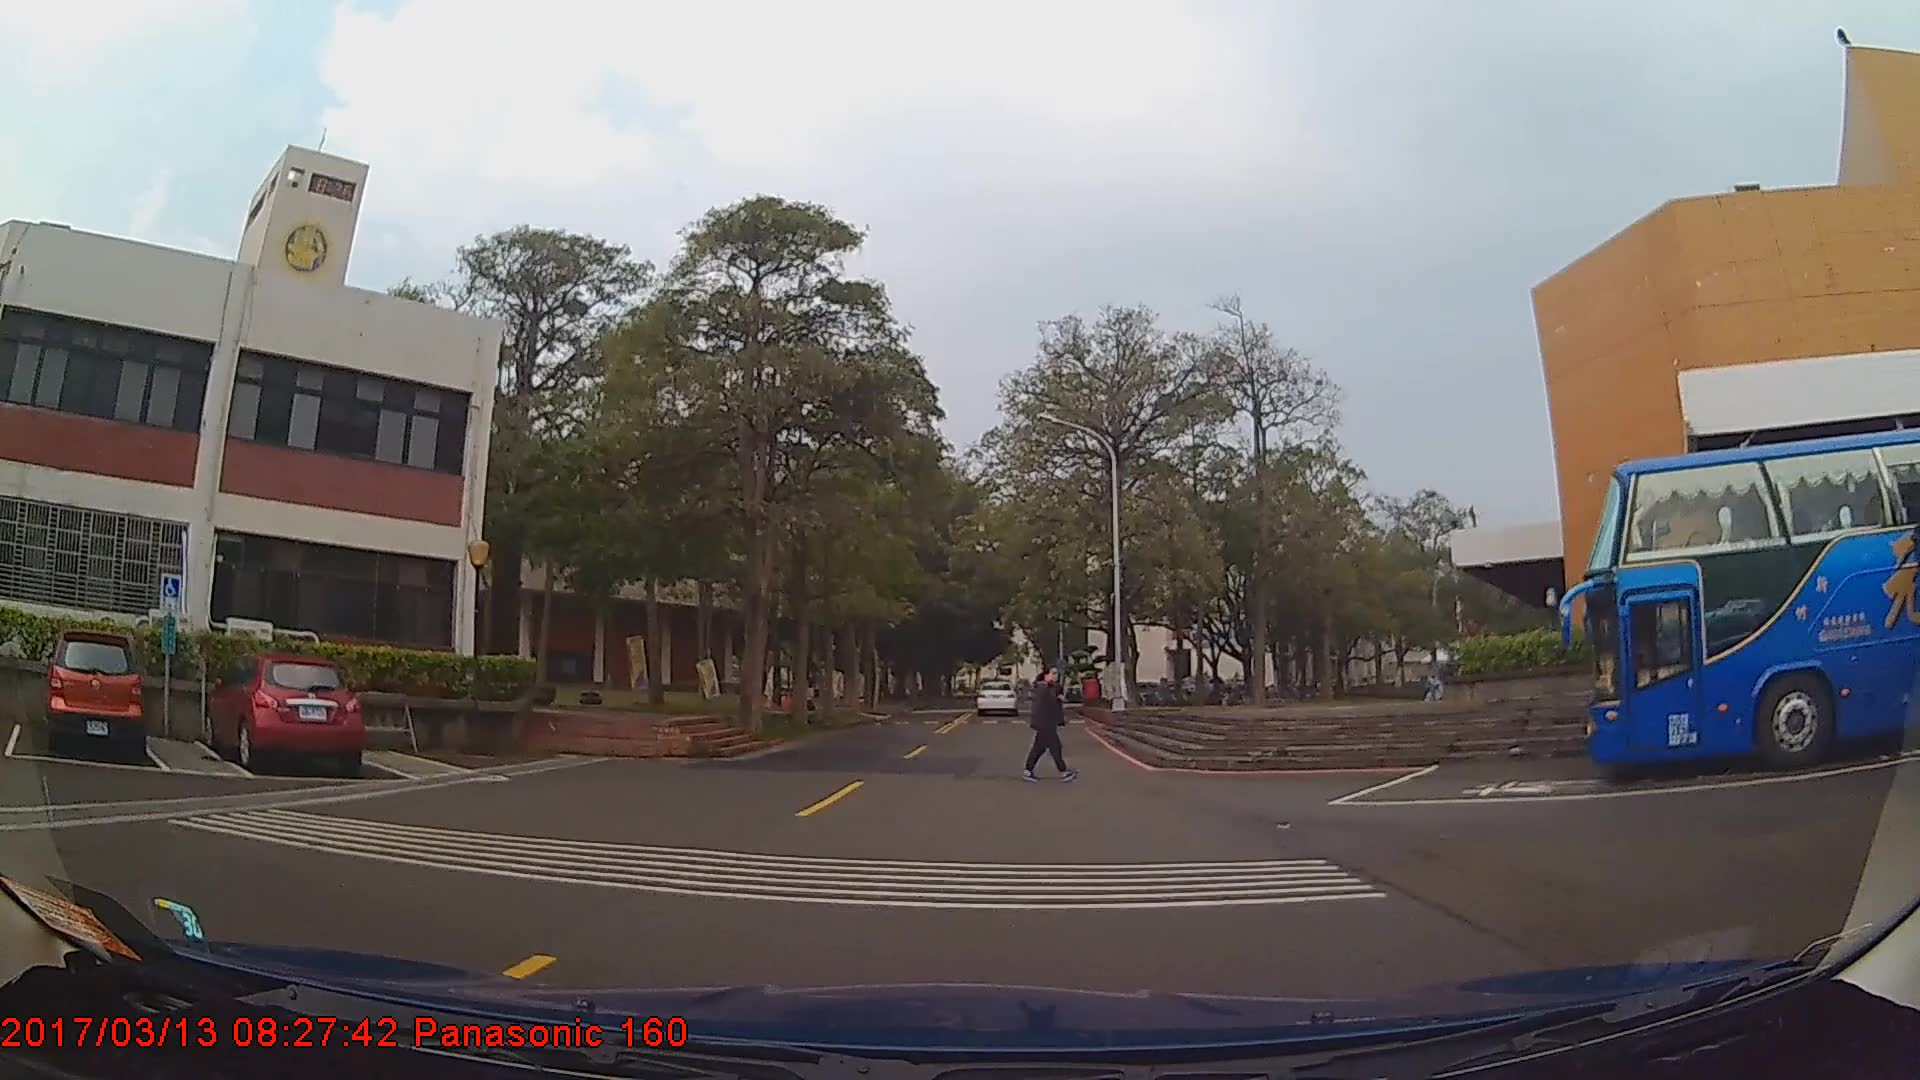pedestrian: (1015, 660, 1080, 785)
vehicle: (1586, 423, 1920, 780), (198, 654, 362, 775), (44, 629, 145, 753), (976, 675, 1016, 714)
